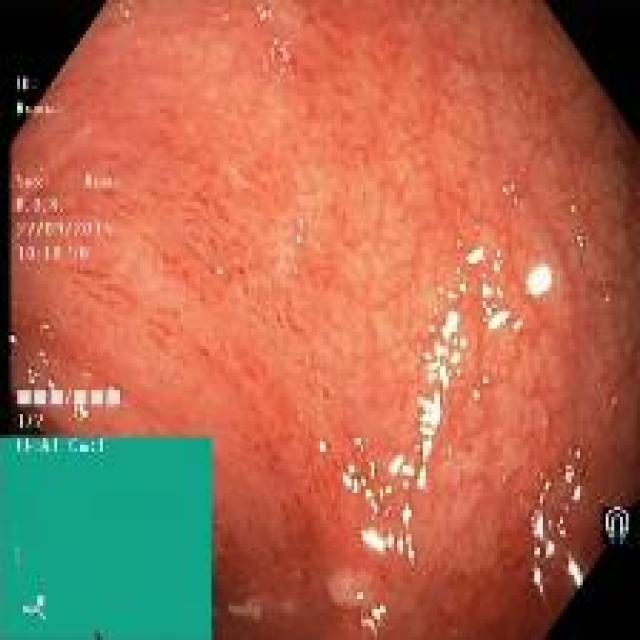ulcerative-colitis-grade-1: (10, 3, 640, 640)
